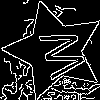W: (29, 25, 88, 83)
